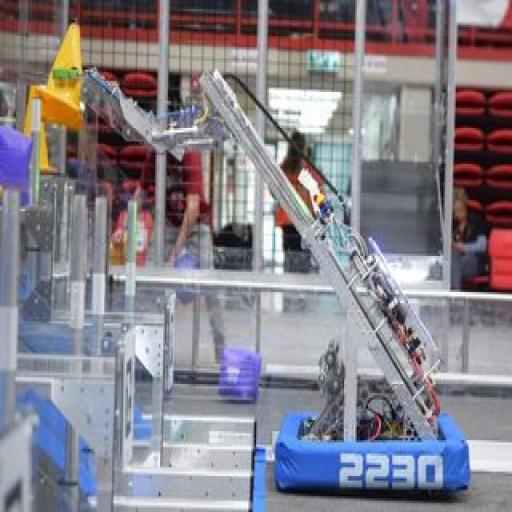robot: (15, 16, 485, 494)
